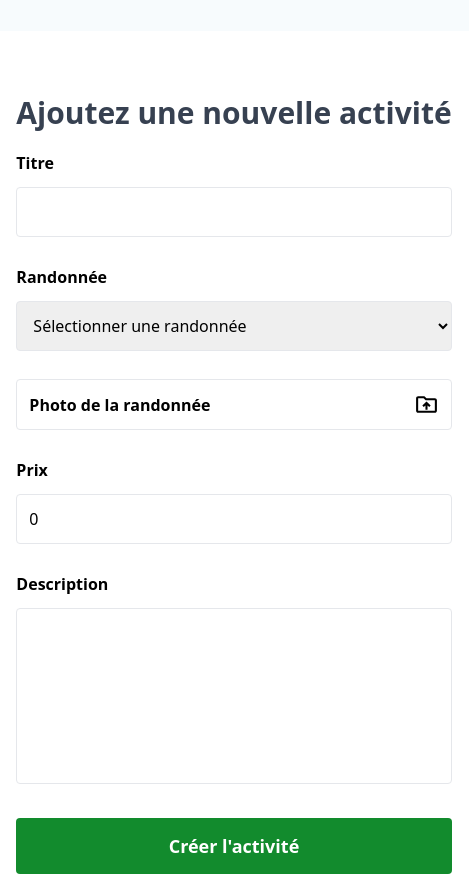
Scenario: AddNewActivity Screen › should shows a success message if there are no errors during the request
The width and height of the screenshot is (469, 891).
In the field labelled "Titre": x=234, y=212 [16,187,452,237], type "Marche à Mafate"
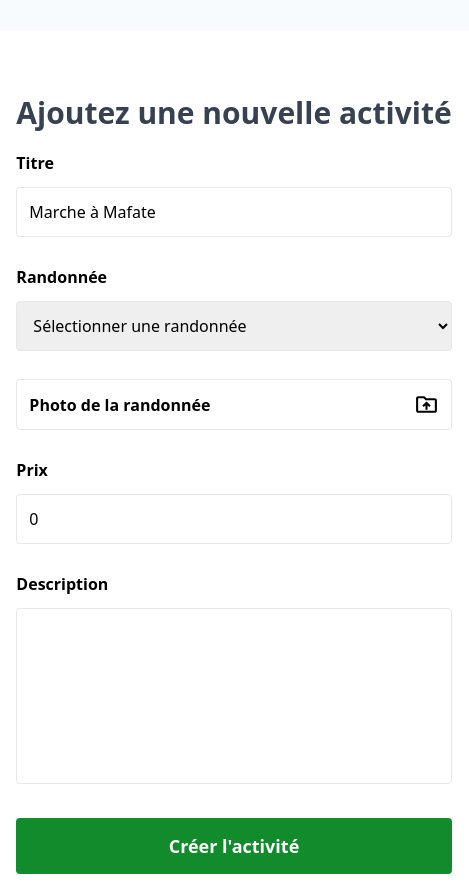
Select "Mafate" in the dropdown: x=234, y=326 [16,301,452,351]
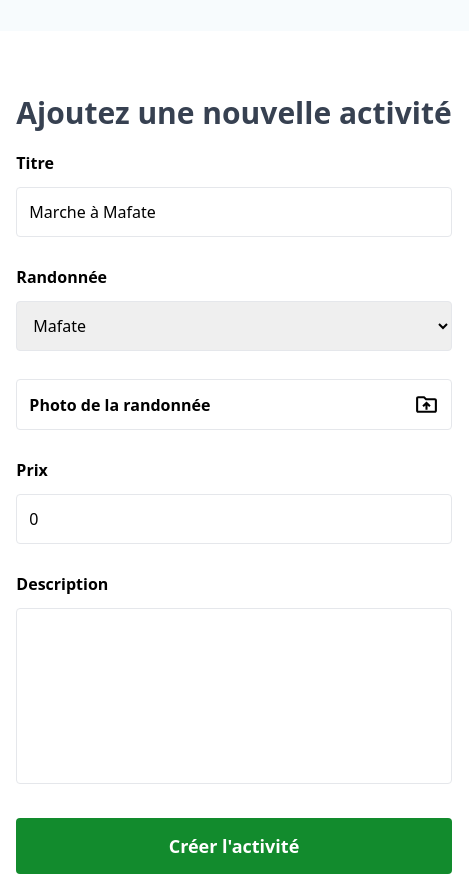
Replace the text in the number field labelled "Prix" with "100": x=234, y=519 [16,494,452,544]
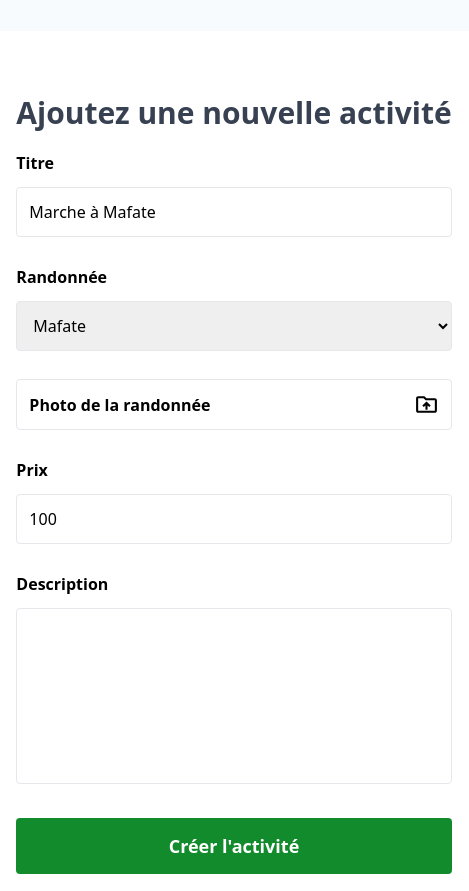
In the text box labelled "Description": x=234, y=696 [16,608,452,784], type "Une super marche à Mafate"
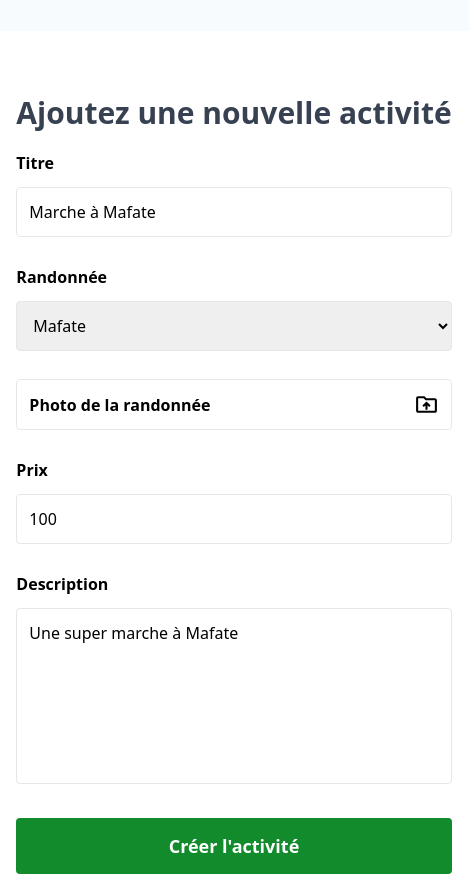
Click the button "Créer l'activité": x=234, y=846 [16,818,452,874]
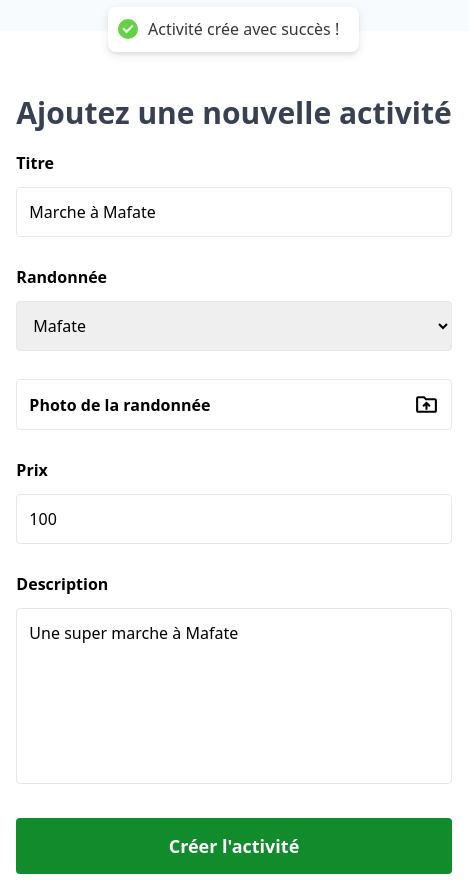
Expected: the text "Activité crée avec succès !" is shown, [148,19,340,40]
